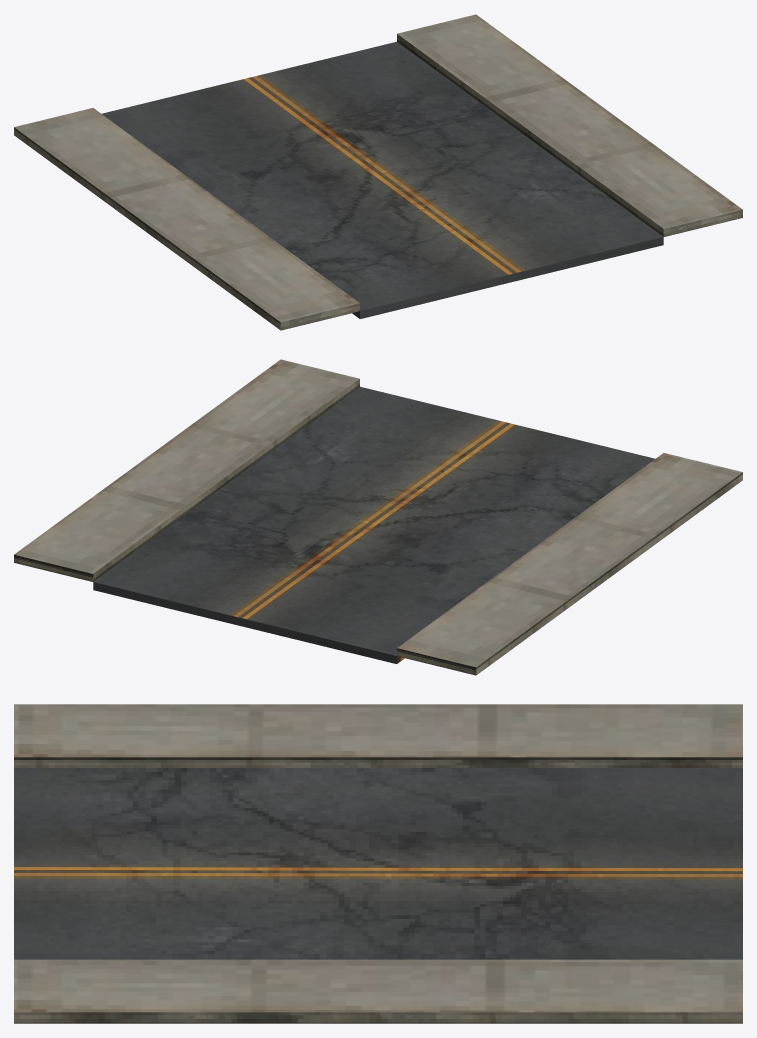
The model's file is road-module.obj.
3 renders of one model, top to bottom at view 1: azimuth 30°, elevation 25°; view 2: azimuth 150°, elevation 25°; view 3: azimuth 270°, elevation 25°, orthographic. The views are drawn at different scales.
Visible parts, largest first — view 1: Cube; view 2: Cube; view 3: Cube.
Boxes of the visible parts, x1,y1,x2,y2 form: Cube: (14,14,742,330); Cube: (14,359,742,675); Cube: (14,704,742,1023).
Bounding box in the file's own units: 9 × 0.3 × 9.
